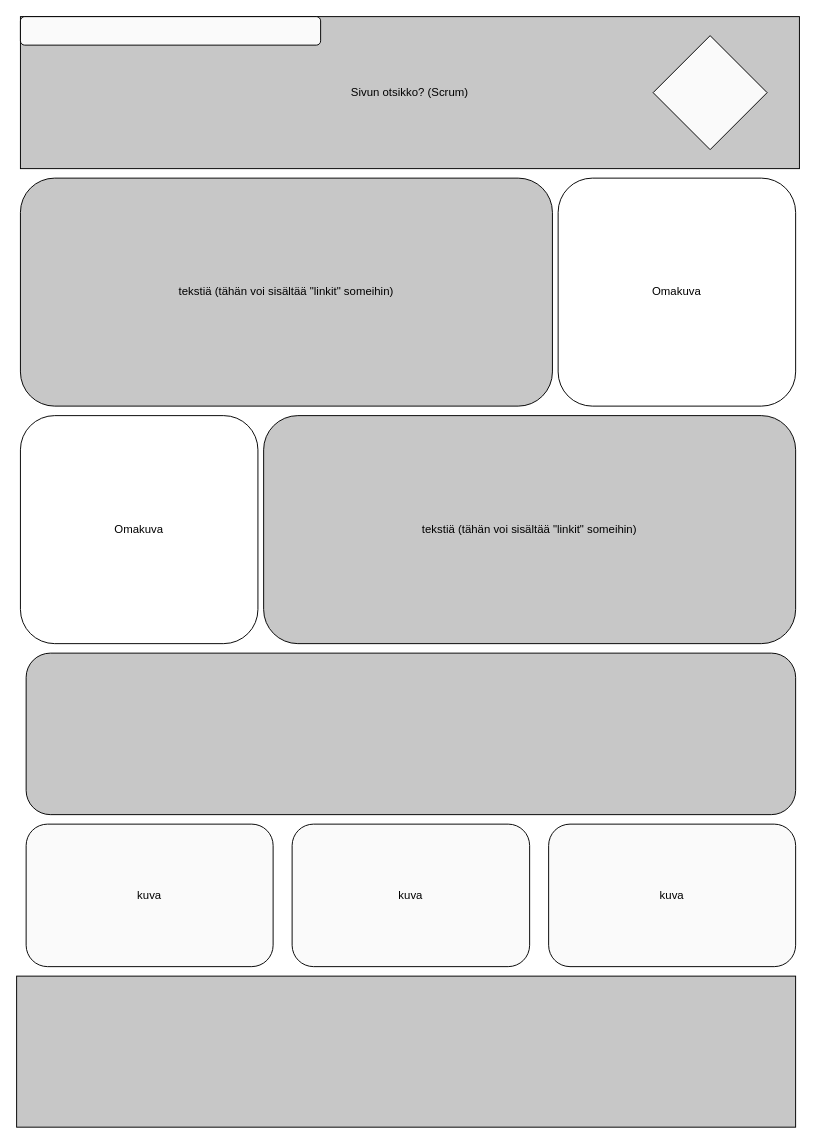
Some shapes in this 816 by 1144 pixel diagram are drawn without their labels. The shapes that lost their labels are listed below. From the top down, each one's centre as x and y in pixels, then its label:
At point (170, 30): "Valikot".
At point (709, 92): "Logo".
At point (410, 733): "Selitys Scrumin ideologiasta? (Lorem Ipsum)".
At point (406, 1051): "Footer (nimet, osoitteet, somet, linkit?)".
